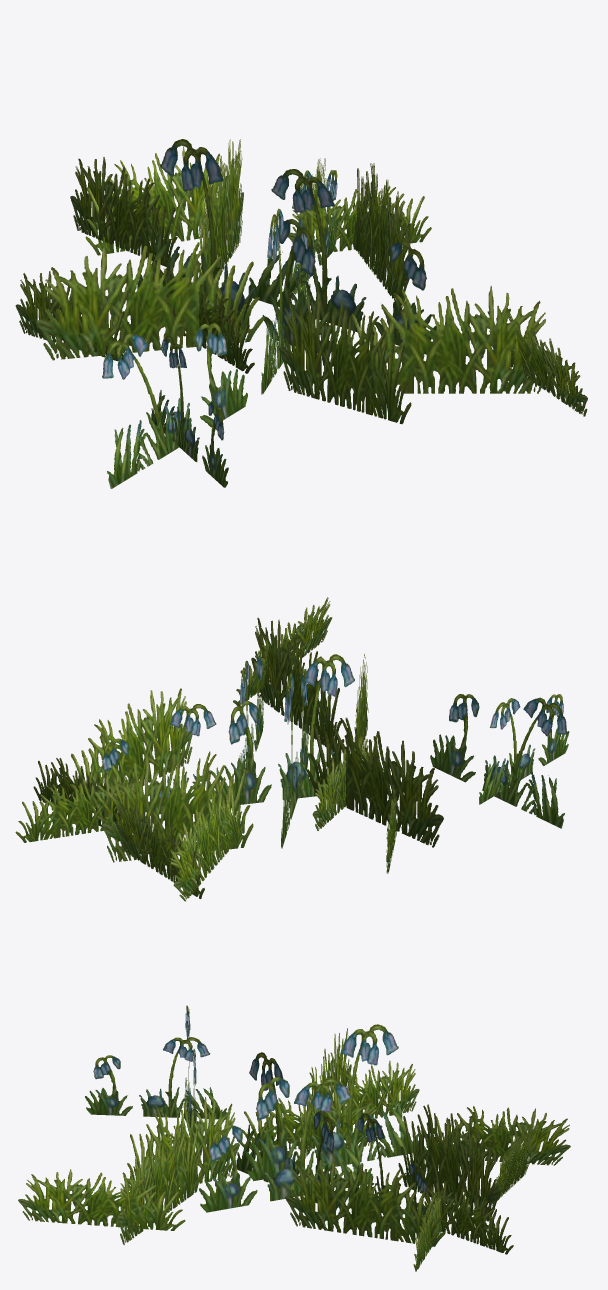
File: DN_grass04a.FBX
3 renders of one model, top to bottom at view 1: azimuth 30°, elevation 25°; view 2: azimuth 150°, elevation 25°; view 3: azimuth 270°, elevation 25°, orthographic. The views are drawn at different scales.
Visible parts, largest first — view 1: DN_grass04a; view 2: DN_grass04a; view 3: DN_grass04a.
Boxes of the visible parts, x1,y1,x2,y2 form: DN_grass04a: (15,139,587,488); DN_grass04a: (15,597,569,901); DN_grass04a: (18,1005,570,1271).
Bounding box in the file's own units: 100 × 46.7 × 126.
